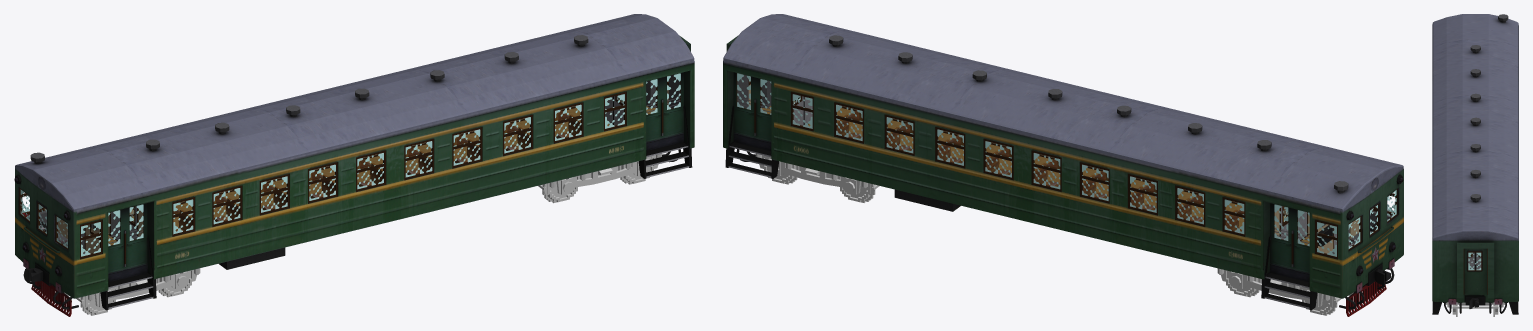
File: mvp_ir_sr3h.obj
The picture shows the model from 3 angles, left to right: view 1: azimuth 30°, elevation 25°; view 2: azimuth 150°, elevation 25°; view 3: azimuth 270°, elevation 25°; orthographic projection. The views are drawn at different scales.
Parts seen in each view (by area): view 1: FRAME_sr3h, BOGEY_REAR_sr3h, BOGEY_FRONT_sr3h; view 2: FRAME_sr3h, BOGEY_REAR_sr3h, BOGEY_FRONT_sr3h; view 3: FRAME_sr3h, BOGEY_REAR_sr3h, BOGEY_REAR_WHEEL_2_sr3h.
Part boxes in pixels (x1,y1,x2,y2): FRAME_sr3h: [14, 14, 694, 316]; BOGEY_REAR_sr3h: [538, 153, 661, 195]; BOGEY_FRONT_sr3h: [76, 268, 200, 307]; FRAME_sr3h: [723, 14, 1403, 316]; BOGEY_REAR_sr3h: [755, 153, 879, 195]; BOGEY_FRONT_sr3h: [1217, 268, 1341, 307]; FRAME_sr3h: [1432, 14, 1518, 314]; BOGEY_REAR_sr3h: [1445, 302, 1505, 311]; BOGEY_REAR_WHEEL_2_sr3h: [1452, 302, 1498, 316].
Bounding box in the file's own units: 20.59 × 4.37 × 3.33.
